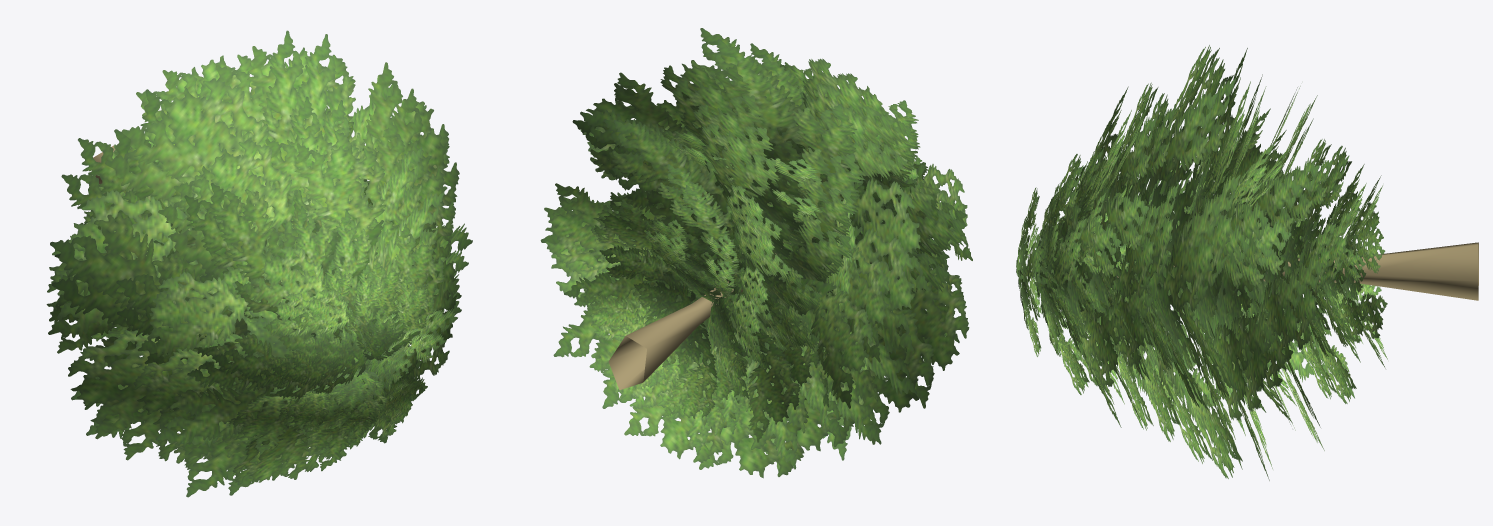
3 views of the same model, side by side, from view 1: azimuth 30°, elevation 25°; view 2: azimuth 150°, elevation 25°; view 3: azimuth 270°, elevation 25° (orthographic). The views are drawn at different scales.
Parts seen in each view (by area): view 1: 数木1.002; view 2: 数木1.002, 数木1.004; view 3: 数木1.002, 数木1.004.
Part boxes in pixels (x1,y1,x2,y2): 数木1.002: (46, 30, 472, 497); 数木1.002: (540, 28, 972, 478); 数木1.004: (608, 243, 790, 390); 数木1.002: (1016, 45, 1387, 480); 数木1.004: (1117, 242, 1478, 300).
Size of the model in its own units: 6.34 by 6.18 by 6.
2 materials, 1 textured.
